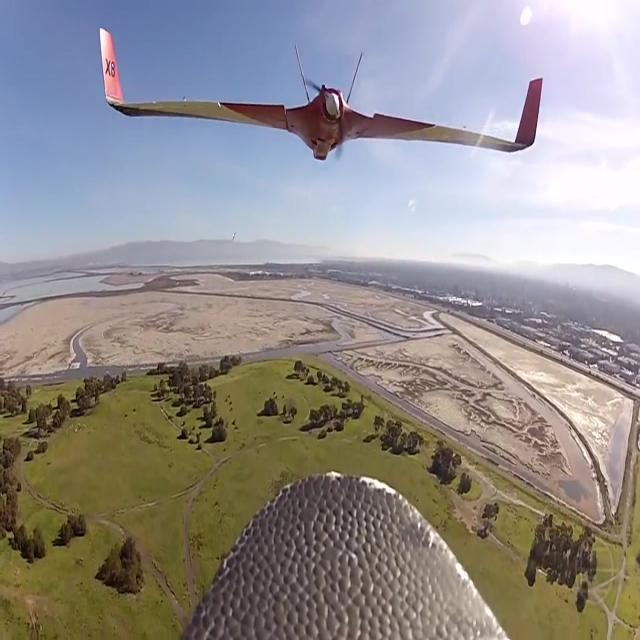iha: (96, 0, 544, 101)
